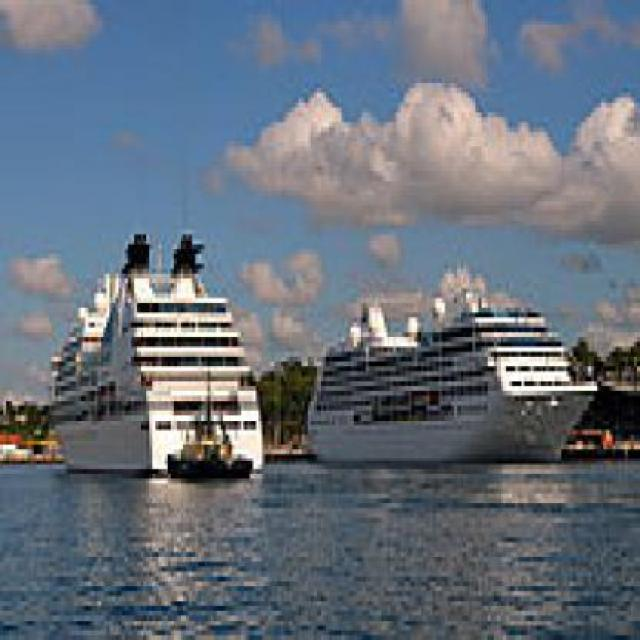cruise: (41, 217, 275, 500), (303, 279, 610, 485)
